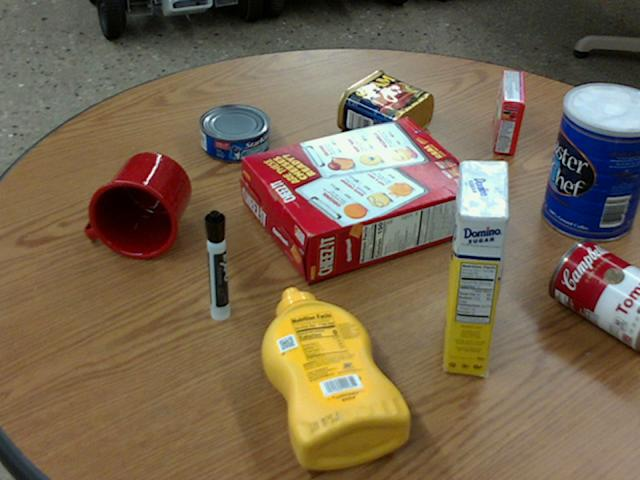cracker_box: (240, 117, 483, 283)
gelatin_box: (492, 70, 523, 153)
large_marker: (204, 209, 227, 319)
master_chef_can: (542, 84, 639, 241)
mug: (84, 151, 189, 258)
mustard_bottle: (261, 287, 409, 468)
potted_meat_can: (336, 69, 433, 146)
sugar_box: (444, 159, 507, 375)
tomato_soup_can: (549, 237, 639, 348)
tuna_fish_can: (199, 103, 268, 160)
